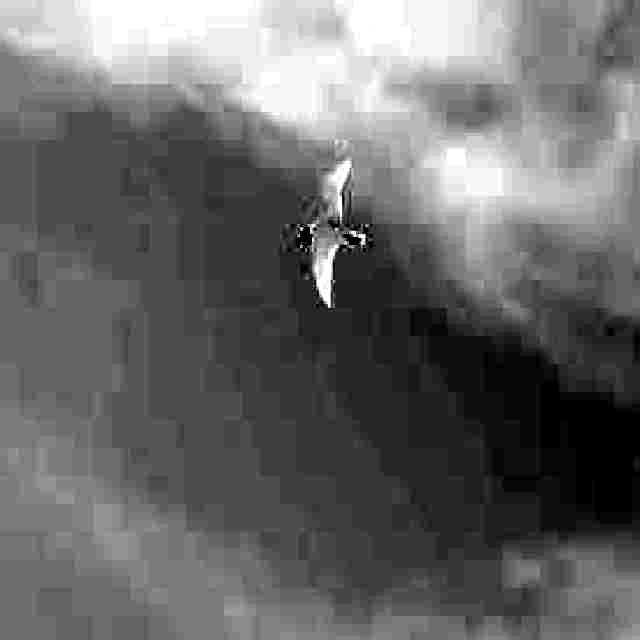bird: (296, 157, 366, 306)
